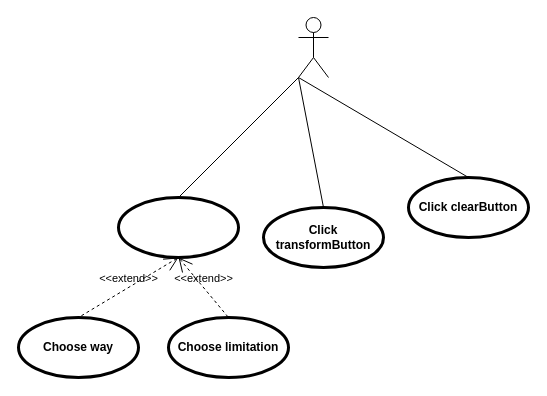
This 547x396 diagram has some shape labels left out. The shapes that lost their labels are listed below. From the top down, each one's centre as x and y in pixels, then its label:
At (x=313, y=47): "User".
At (x=178, y=227): "Click searchButton".
